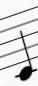LC: (8, 7, 37, 82)
